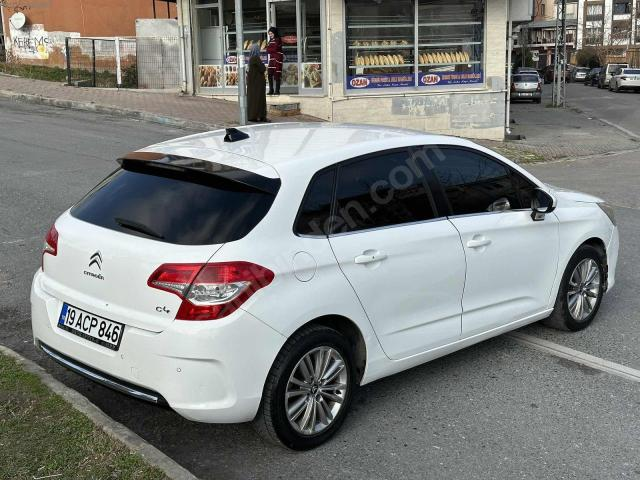plaka: (58, 303, 124, 351)
